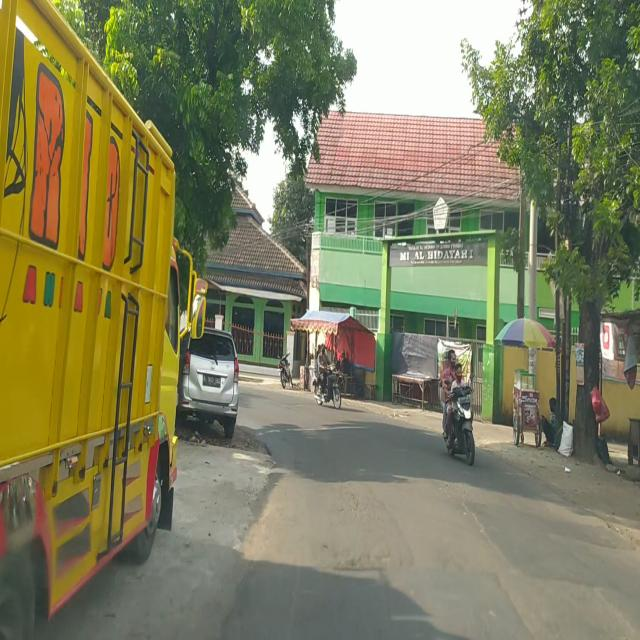Drain Hole: (332, 479, 399, 576)
